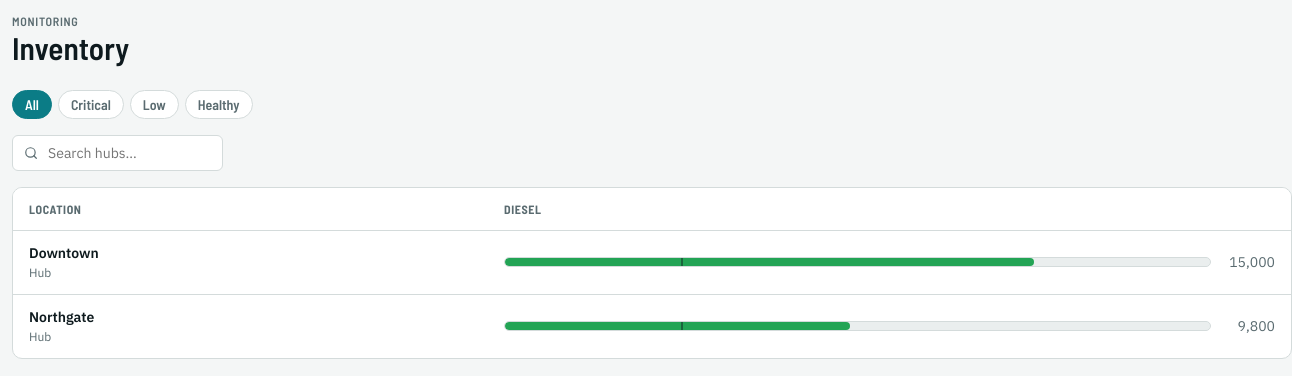
InventoryPage › filters hubs by the search box
expect the text "Downtown" is shown: met, box [29,244,99,262]
Type "north" into the field labelled "Search" at {"x": 129, "y": 153}, box [46,143,211,163]
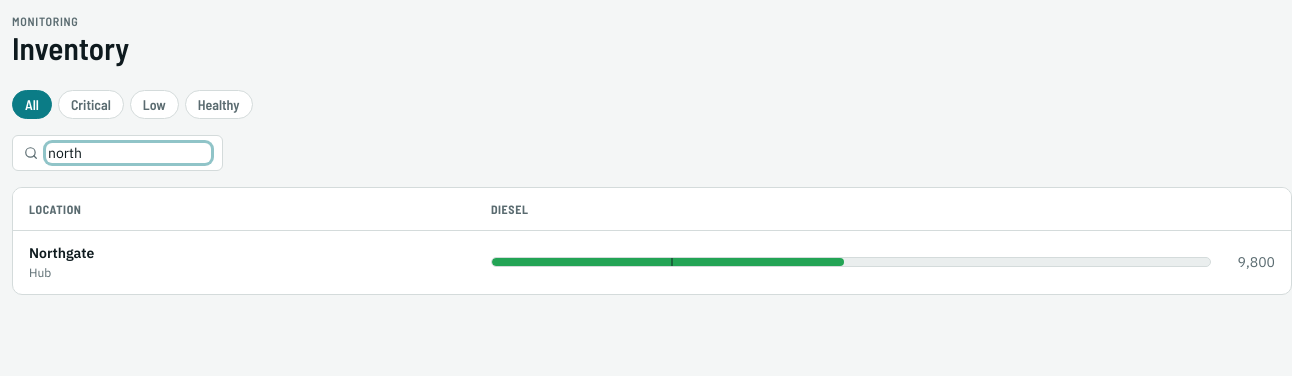
expect the text "Northgate" is shown: met, box [29,244,94,262]
expect the text "Downtown" is gone: met
